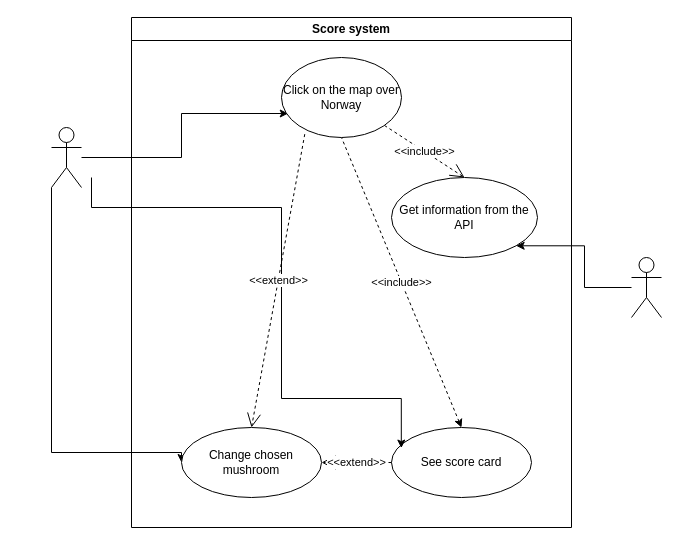
Some shapes in this 680 by 545 pixel diagram are drawn without their labels. Each missing label, with the centre of its shape:
API-er: the point at 646,287
Mushroom forager: the point at 66,157
